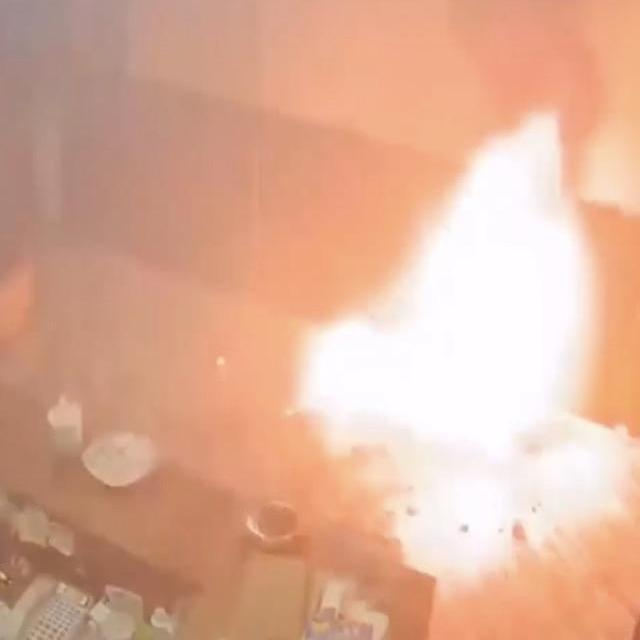smoke: (297, 116, 598, 456)
